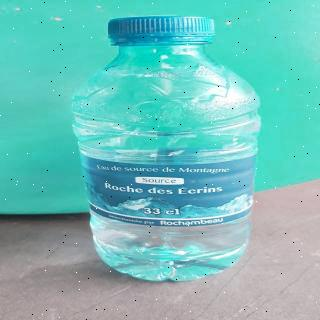Plastic-bottle: (67, 12, 260, 286)
